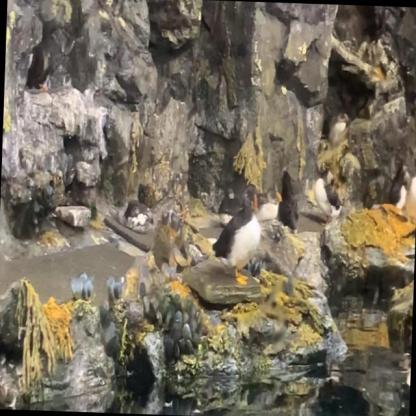puffin: (210, 182, 263, 287), (313, 169, 342, 222), (277, 170, 301, 230), (26, 43, 54, 92), (255, 185, 283, 222), (218, 188, 238, 225)
